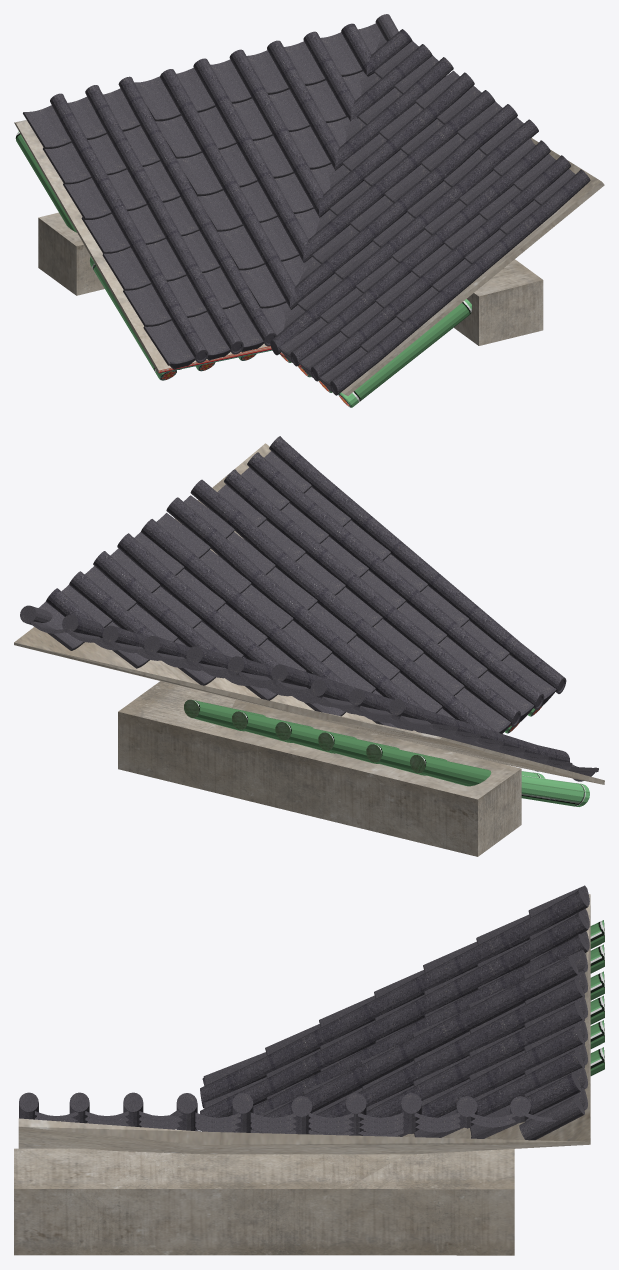
The model's file is SM_R_RoofCorner_19.fbx.
3 views of the same model, one above another, from view 1: azimuth 30°, elevation 25°; view 2: azimuth 150°, elevation 25°; view 3: azimuth 270°, elevation 25° (orthographic). The views are drawn at different scales.
Parts seen in each view (by area): view 1: SM_R_RoofCorner_19; view 2: SM_R_RoofCorner_19; view 3: SM_R_RoofCorner_19.
Part boxes in pixels (box(x1,y1,x2,y2)): SM_R_RoofCorner_19: box(14, 14, 604, 407); SM_R_RoofCorner_19: box(14, 436, 604, 856); SM_R_RoofCorner_19: box(14, 885, 604, 1255).
Bounding box in the file's own units: 438 × 451 × 209.
Materials: 5 (5 with a texture image).
